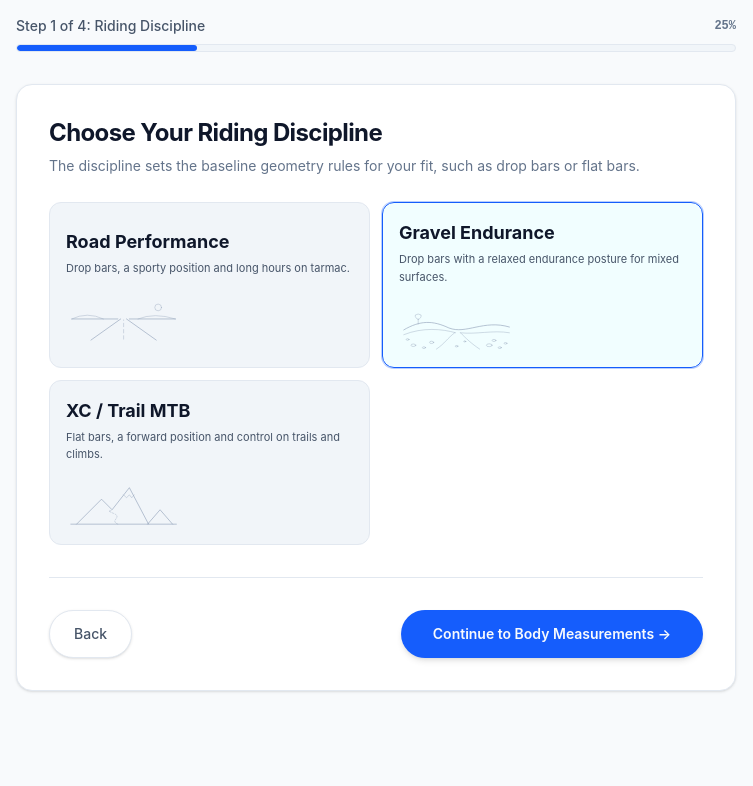
it: MeasurementWizard (en) › should render step 2 (body measurements without the riding style picker)
The width and height of the screenshot is (753, 786).
Step 1. Click the button "Continue to Body Measurements →" → [552, 634], box [401,610,703,658]
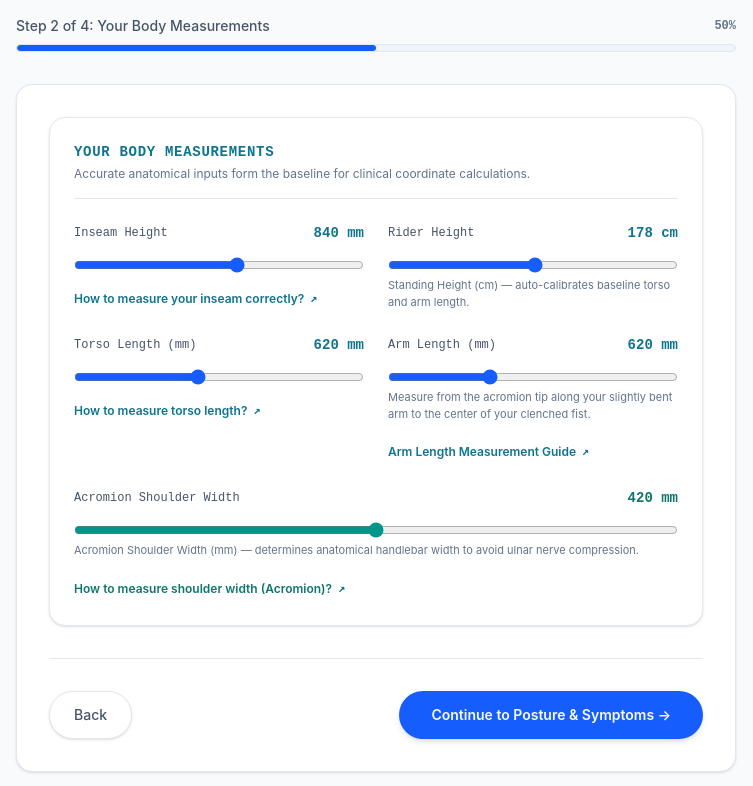
Result: the text "Step 2 of 4: Your Body Measurements" is shown at [16,16,270,36]
Result: the button with test id "inseam-guide-trigger" is shown at [74,287,318,311]
